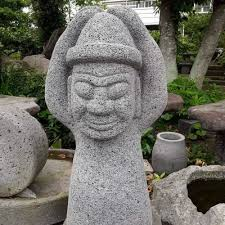Stone Statue: (37, 3, 174, 225)
